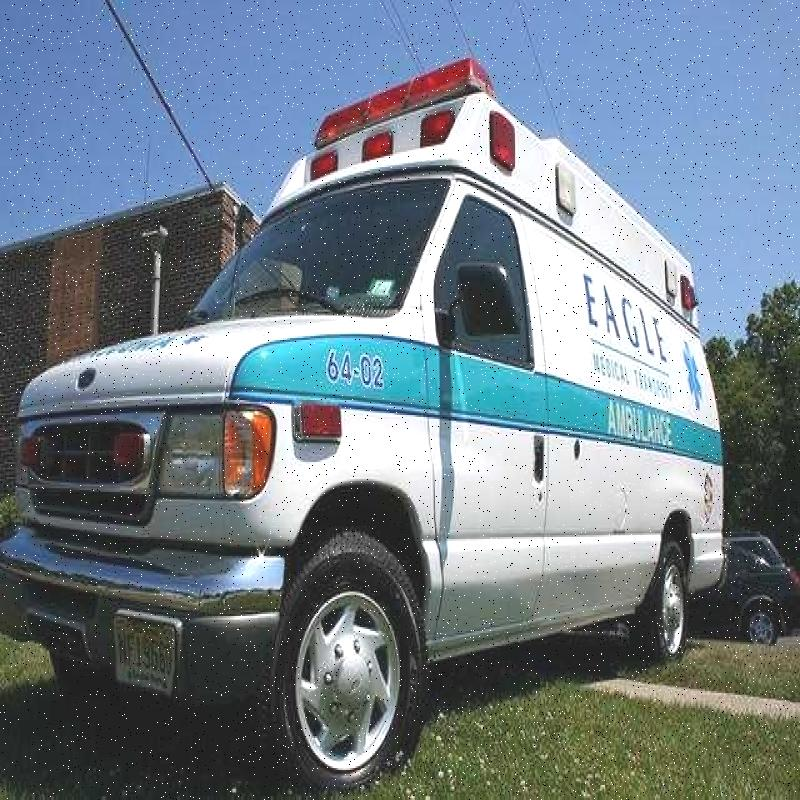AmbulanceSiren: (280, 40, 508, 156)
